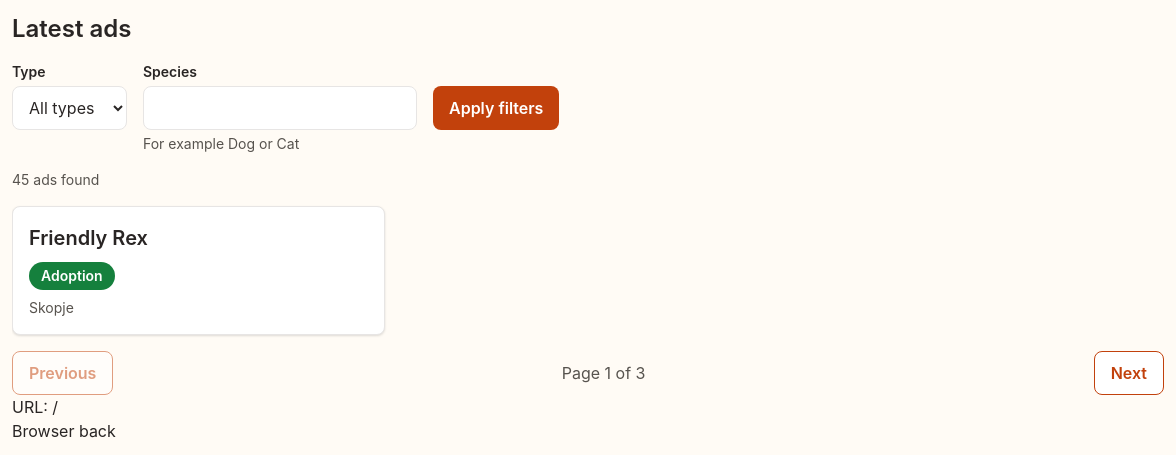
Test: PetAdList › paging › asks for the next page when Next is pressed and updates the URL
Expected: the heading "Friendly Rex" is shown, [29,226,148,250]
Click the button "Next". click: (1129, 373)
box: [1094,351,1164,395]
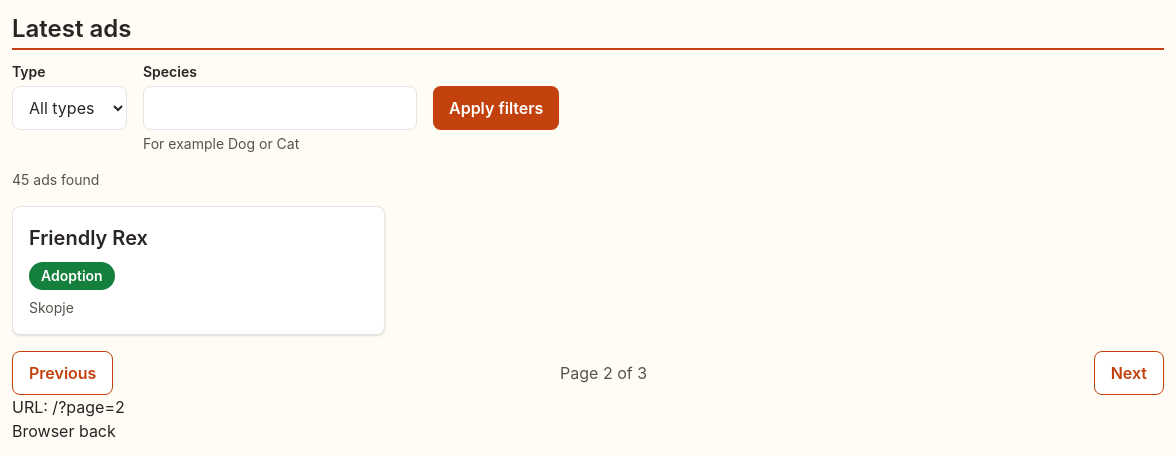
Expected: the text "URL: /?page=2" is shown, [12,397,125,417]
